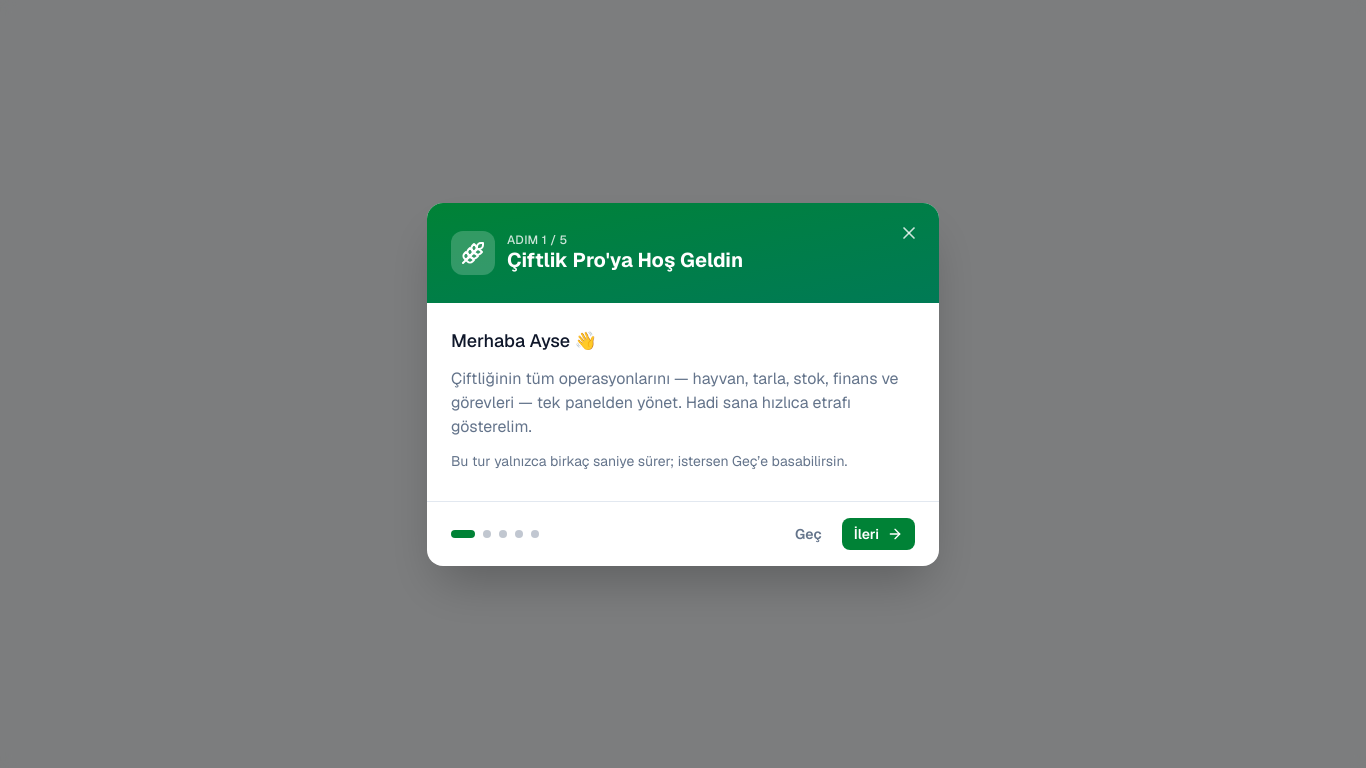
OnboardingModal › Ileri butonu adimi ilerletir
The width and height of the screenshot is (1366, 768).
Click the button "İleri" at [878, 534], box [842,518,915,550]
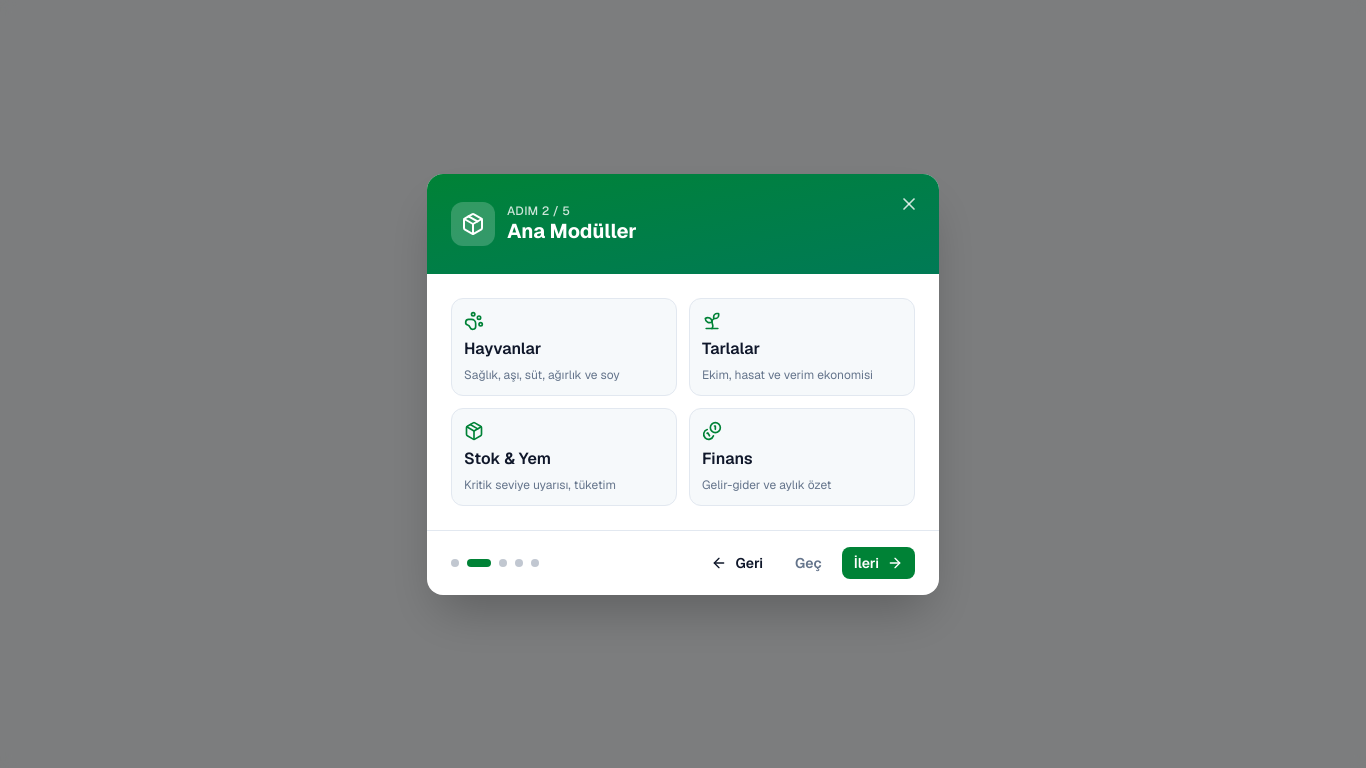
Expected: the text "Adım 2 / 5" is shown, [507,203,570,219]
Expected: the heading "Ana Modüller" is shown, [507,219,637,244]
